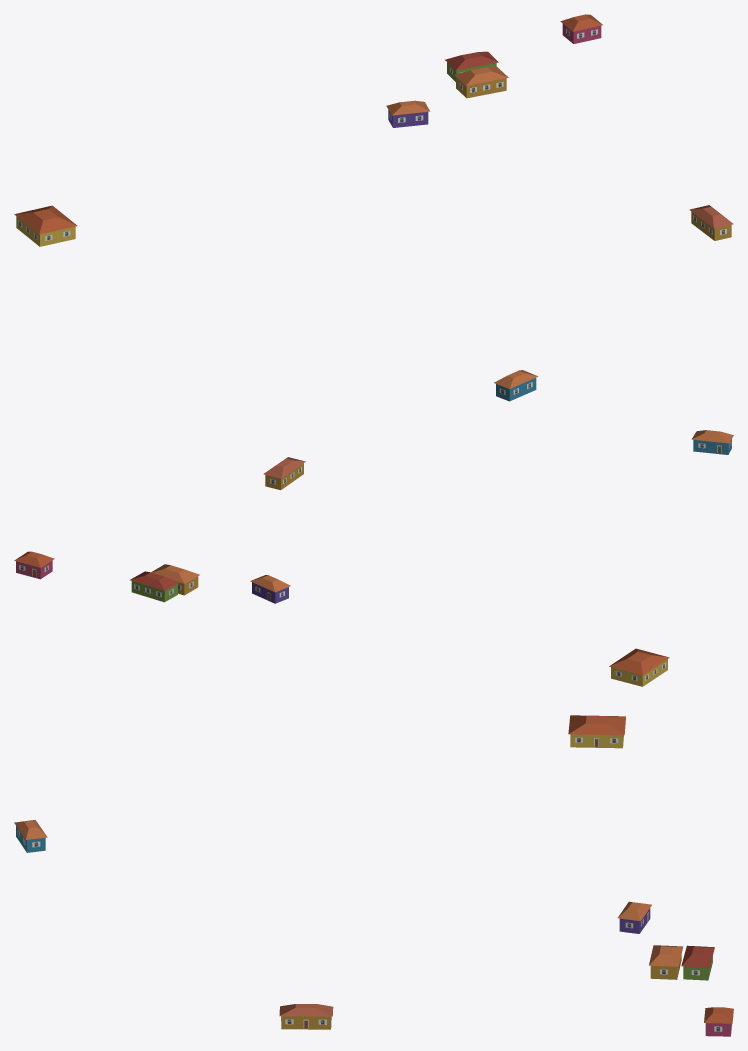
File: msb_sannicolas_13_20.glb
3 renders of one model, top to bottom at view 1: azimuth 30°, elevation 25°; view 2: azimuth 150°, elevation 25°; view 3: azimuth 270°, elevation 25°, orthographic. The views are drawn at different scales.
Parts seen in each view (by area): view 1: msb_sannicolas_13_20_lod0; view 2: msb_sannicolas_13_20_lod0; view 3: msb_sannicolas_13_20_lod0.
Boxes of the visible parts, bbox=[...] form: msb_sannicolas_13_20_lod0: bbox=[14, 14, 733, 401]; msb_sannicolas_13_20_lod0: bbox=[14, 430, 733, 686]; msb_sannicolas_13_20_lod0: bbox=[14, 715, 733, 1036].
Size of what is drawn, in the model's own units: 173 by 12.79 by 166.
Materials: 2 (1 with a texture image).
